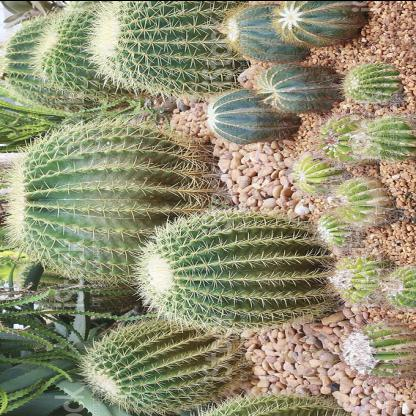Cactus: (9, 123, 204, 279), (140, 213, 328, 327), (81, 316, 243, 413), (87, 0, 253, 90), (206, 87, 298, 143), (220, 3, 306, 61), (272, 0, 366, 47), (340, 326, 416, 380), (254, 64, 336, 112), (354, 117, 416, 161), (330, 178, 386, 223), (342, 62, 398, 102), (292, 158, 348, 196), (384, 266, 416, 310)
